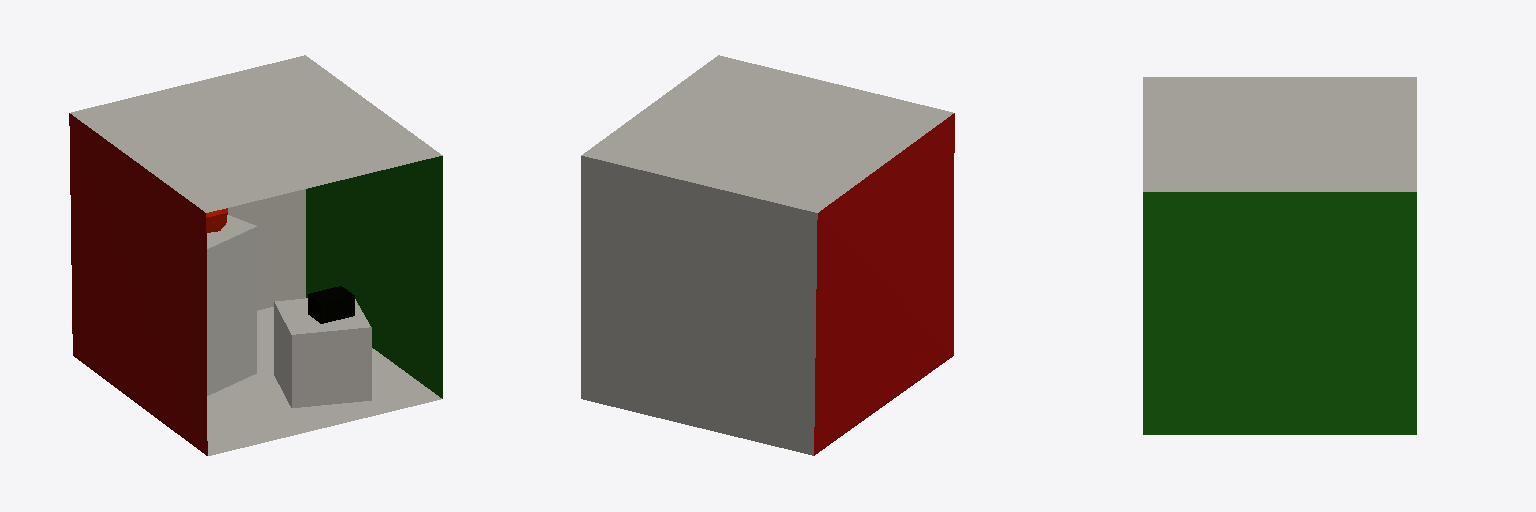
The model's file is cornell2.obj.
The picture shows the model from 3 angles: view 1: azimuth 30°, elevation 25°; view 2: azimuth 150°, elevation 25°; view 3: azimuth 270°, elevation 25°; orthographic projection.
Visible parts, largest first — view 1: cornell, Manor; view 2: cornell; view 3: cornell.
Boxes of the visible parts, x1=… form: cornell: x1=69, y1=55, x2=442, y2=455; Manor: x1=308, y1=286, x2=354, y2=323; cornell: x1=581, y1=55, x2=954, y2=455; cornell: x1=1143, y1=77, x2=1416, y2=434.
Bounding box in the file's own units: 2.02 × 1.99 × 2.03.